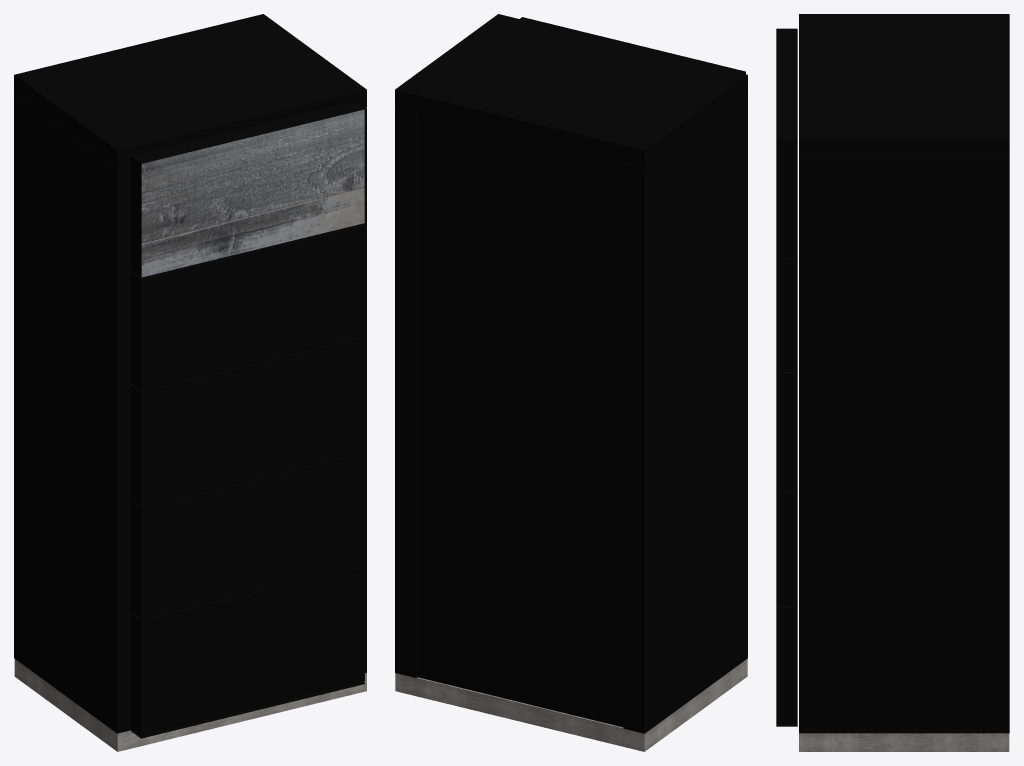
Rendered from bedside.gltf.
3 renders of one model, left to right at view 1: azimuth 30°, elevation 25°; view 2: azimuth 150°, elevation 25°; view 3: azimuth 270°, elevation 25°, orthographic. The views are drawn at different scales.
Parts seen in each view (by area): view 1: TS_Modo_6 sect Drawer; view 2: TS_Modo_6 sect Drawer; view 3: TS_Modo_6 sect Drawer.
Part boxes in pixels (x1,y1,x2,y2): TS_Modo_6 sect Drawer: (14,14,366,751); TS_Modo_6 sect Drawer: (395,14,747,751); TS_Modo_6 sect Drawer: (776,14,1009,751).
Bounding box in the file's own units: 0.506 × 1.16 × 0.4017.
Materials: 2 (2 with a texture image).
